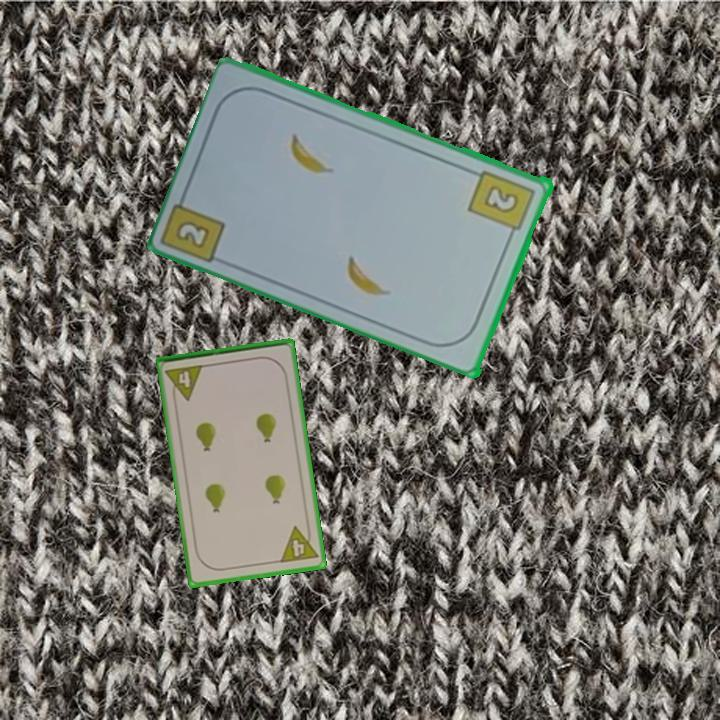2b: (465, 166, 539, 242), (172, 216, 213, 252)
4p: (276, 521, 321, 566), (162, 361, 206, 404)
